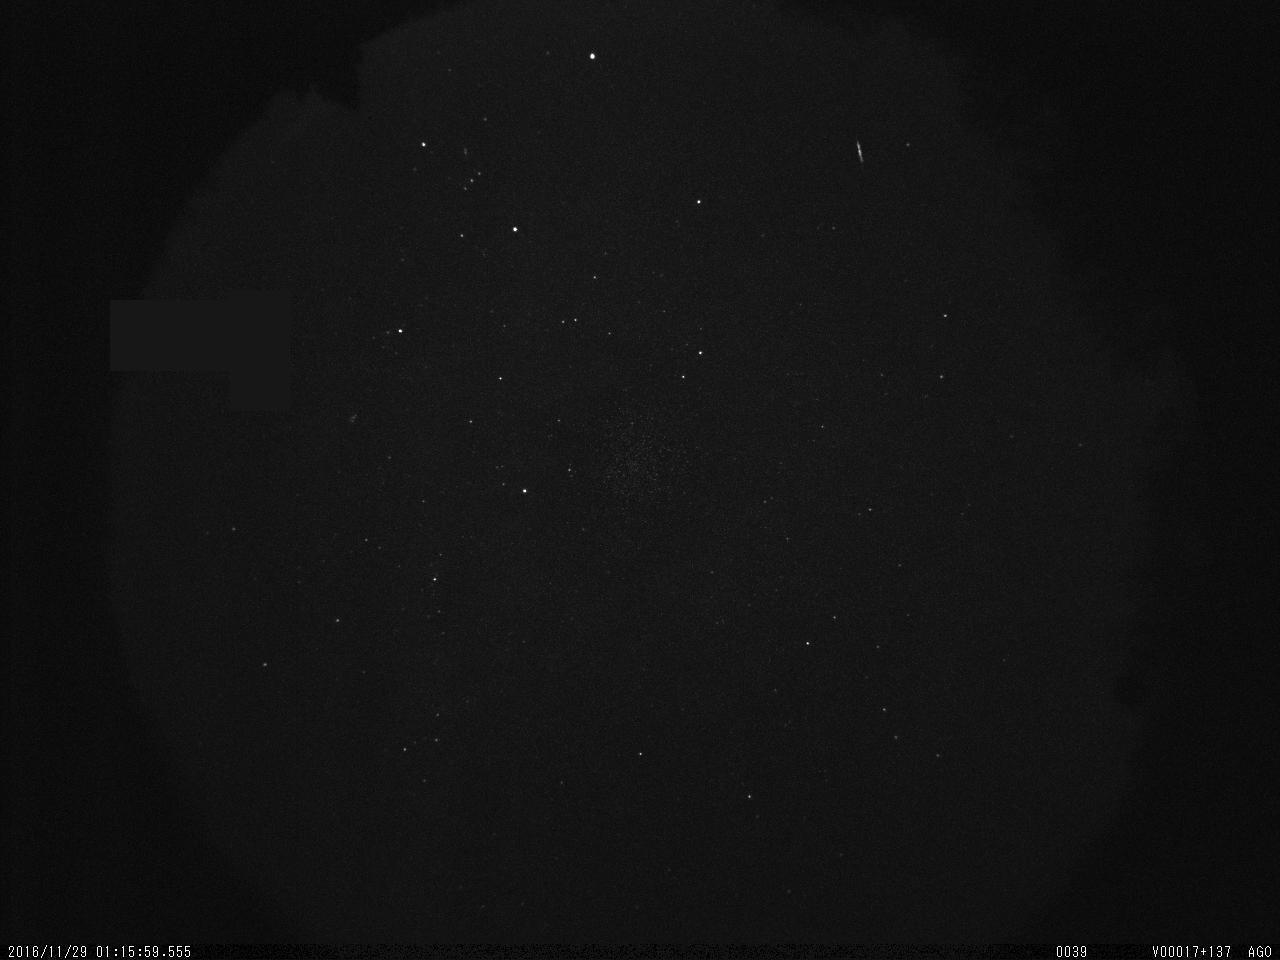Meteor: (852, 134, 869, 177)
